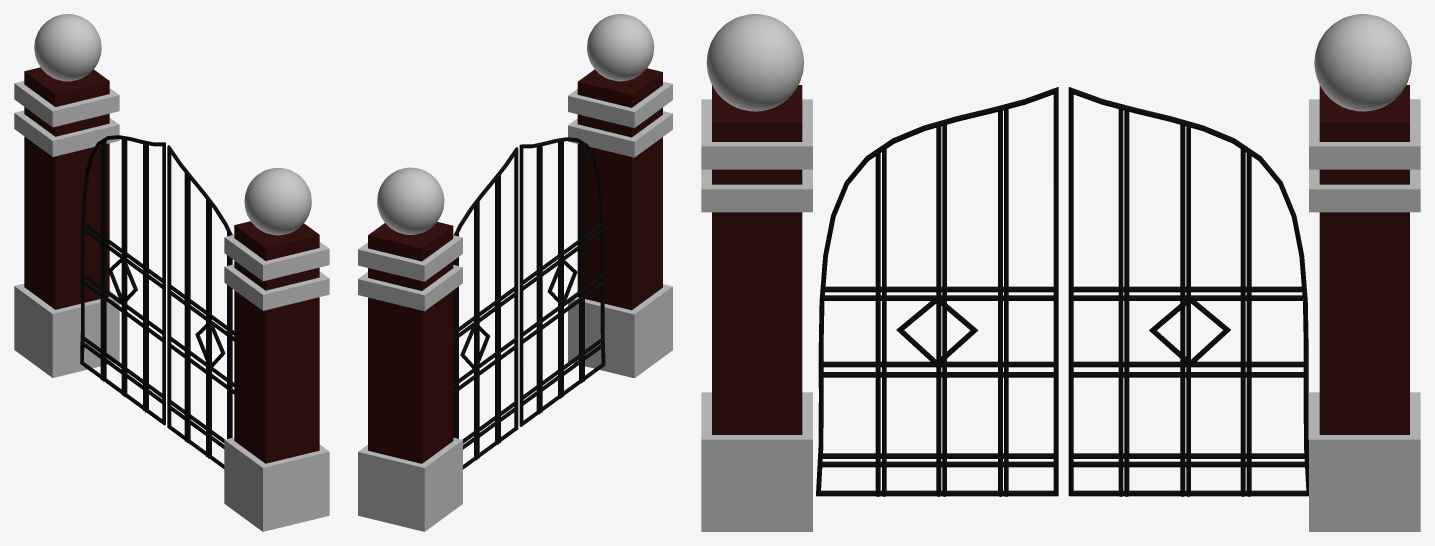
3 renders of one model, left to right at view 1: azimuth 30°, elevation 25°; view 2: azimuth 150°, elevation 25°; view 3: azimuth 270°, elevation 25°, orthographic. The views are drawn at different scales.
Visible parts, largest first — view 1: Box20179, Box20183, Line001, Line002, Box20182, Box20186, Sphere001, Sphere002, Box20180, Box20184, Box20181, Box20185; view 2: Box20183, Box20179, Line002, Line001, Box20186, Box20182, Sphere002, Sphere001, Box20184, Box20185, Box20181, Box20180; view 3: Line001, Line002, Box20179, Box20183, Box20182, Box20186, Sphere001, Sphere002, Box20181, Box20184, Box20180, Box20185.
Part boxes in pixels (x1,y1,x2,y2): Box20179: [234, 221, 319, 463]; Box20183: [24, 67, 109, 309]; Line001: [80, 135, 165, 425]; Line002: [167, 145, 234, 468]; Box20182: [224, 437, 329, 531]; Box20186: [14, 283, 119, 377]; Sphere001: [244, 168, 311, 235]; Sphere002: [34, 14, 101, 81]; Box20180: [224, 264, 329, 310]; Box20184: [14, 81, 119, 127]; Box20181: [224, 235, 329, 281]; Box20185: [14, 110, 119, 156]; Box20183: [368, 222, 453, 463]; Box20179: [577, 68, 662, 310]; Line002: [519, 137, 605, 426]; Line001: [453, 147, 518, 469]; Box20186: [358, 437, 462, 531]; Box20182: [568, 284, 672, 378]; Sphere002: [377, 167, 444, 234]; Sphere001: [587, 14, 654, 81]; Box20184: [358, 235, 462, 281]; Box20185: [358, 265, 462, 311]; Box20181: [568, 81, 672, 127]; Box20180: [568, 111, 672, 157]; Line001: [1068, 87, 1308, 496]; Line002: [816, 87, 1058, 496]; Box20179: [712, 85, 802, 434]; Box20183: [1319, 85, 1409, 434]; Box20182: [701, 392, 812, 531]; Box20186: [1309, 392, 1420, 531]; Sphere001: [706, 14, 803, 111]; Sphere002: [1314, 14, 1411, 111]; Box20181: [701, 99, 812, 169]; Box20184: [1309, 99, 1420, 169]; Box20180: [701, 169, 812, 212]; Box20185: [1309, 169, 1420, 212].
Bounding box in the file's own units: 79.9 × 388 × 516.
